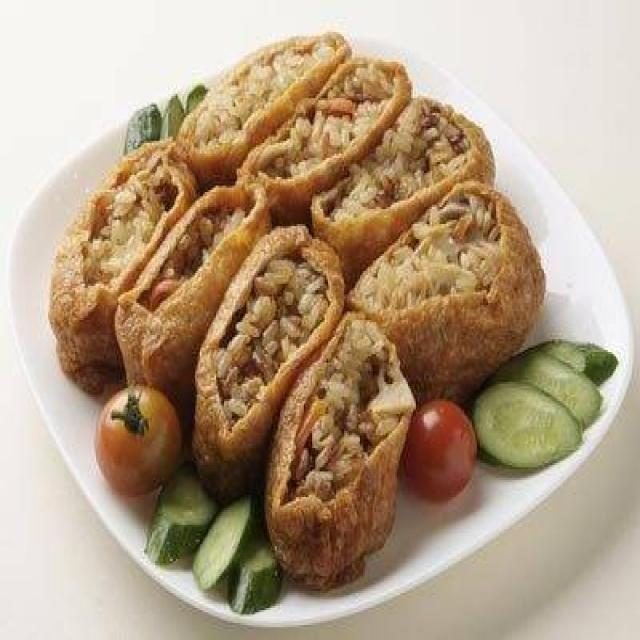寿司卷物: (21, 45, 589, 597)
